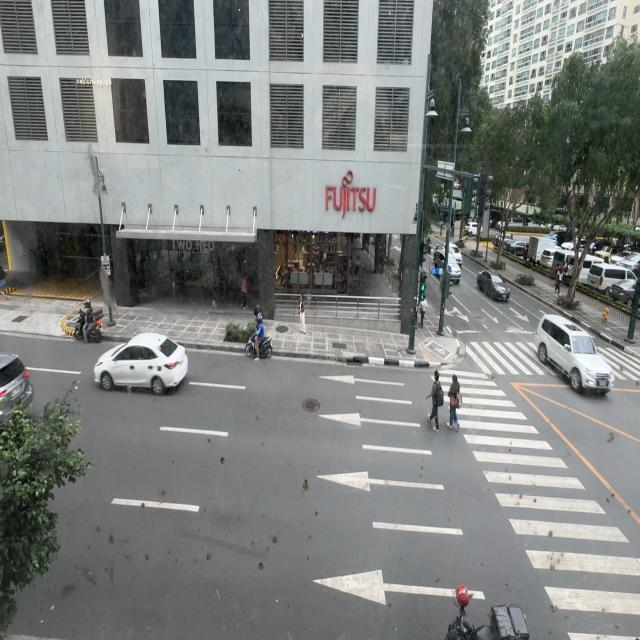jaywalking: (427, 371, 442, 434), (444, 374, 460, 429)
